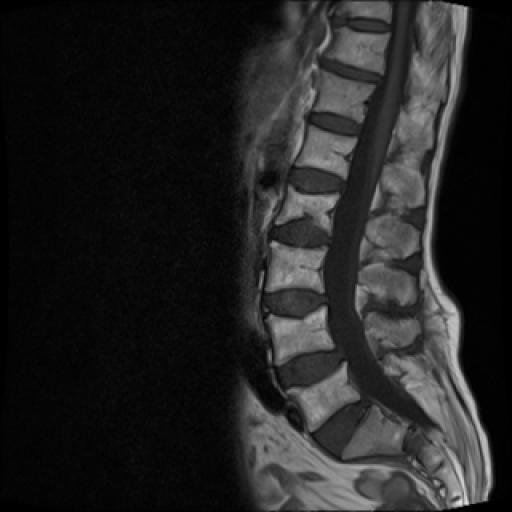L1: (295, 124, 358, 183)
L2: (275, 184, 340, 234)
L3: (265, 241, 328, 294)
L4: (267, 306, 335, 364)
L5: (287, 362, 361, 432)
S1: (342, 405, 407, 460)
